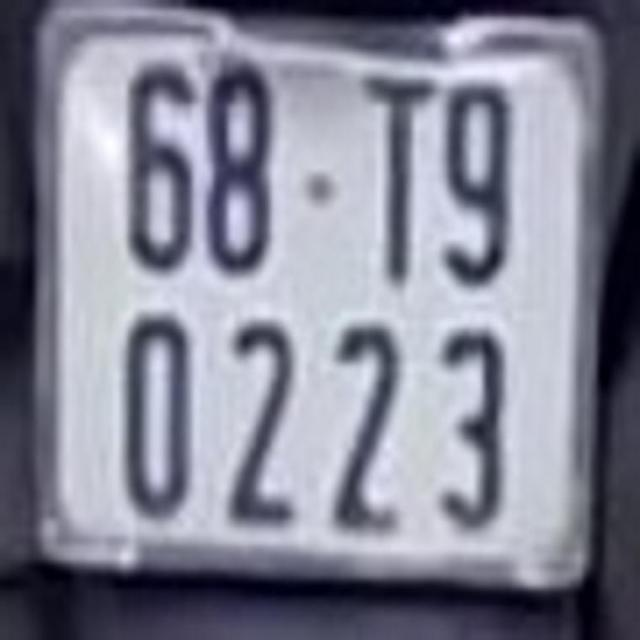0: (120, 308, 197, 522)
2: (228, 308, 302, 535), (330, 314, 400, 540)
3: (436, 313, 509, 536)
6: (120, 52, 199, 272)
8: (203, 54, 271, 276)
9: (438, 70, 511, 292)
T: (354, 64, 434, 289)
